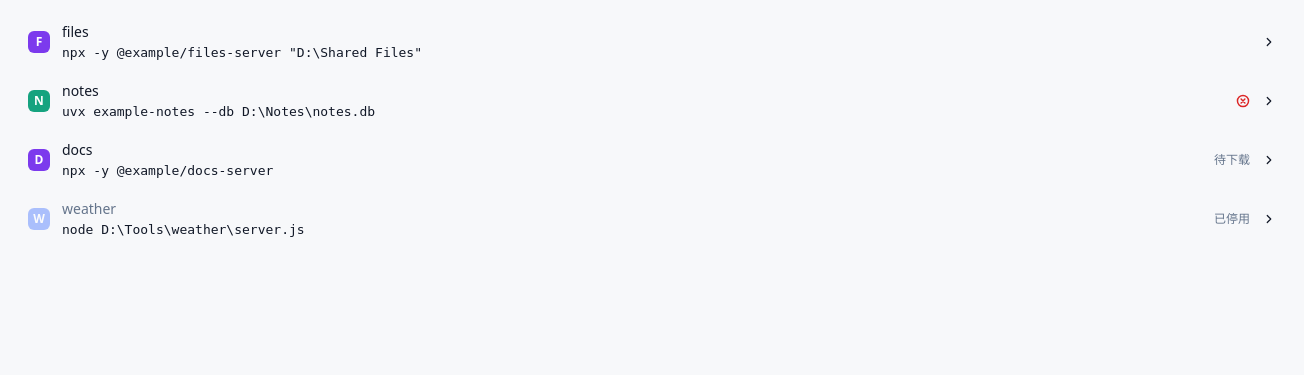
it: MCP 服务 › a service failed: its page says why and shows the last lines it wrote
Click the button "N notes uvx example-notes --db D:\\Notes\\notes.db" at (80, 90), box [12, 71, 1292, 130]
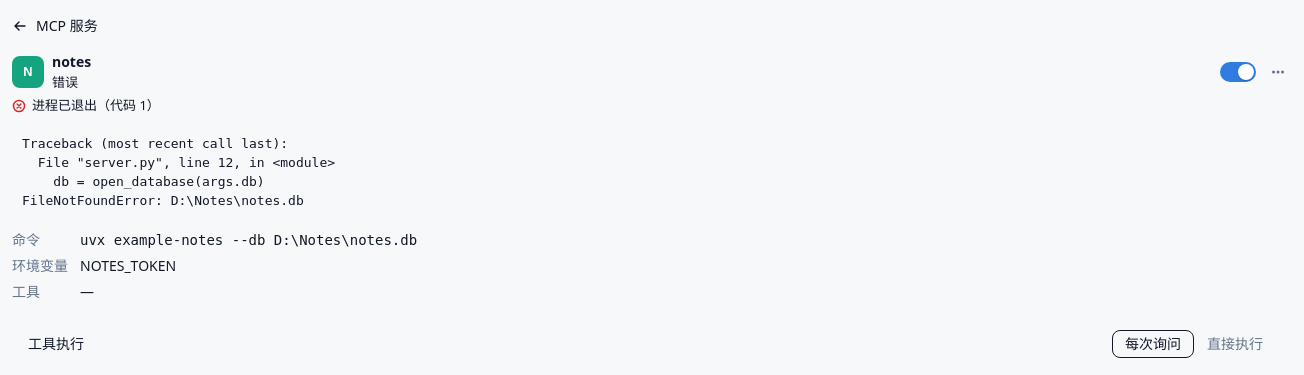
Result: the text "进程已退出（代码 1）" is shown at [12, 97, 160, 114]
Result: the text "FileNotFoundError" is shown at [22, 136, 335, 208]
